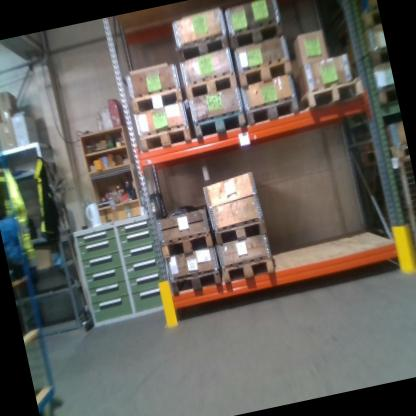pallet: (296, 77, 369, 117), (171, 28, 231, 64), (236, 52, 294, 87), (242, 96, 302, 128), (158, 227, 214, 260), (191, 106, 248, 138), (228, 19, 287, 49), (211, 215, 269, 245), (221, 252, 275, 283), (136, 123, 192, 152), (126, 83, 182, 112), (167, 267, 222, 295), (182, 69, 237, 97), (375, 85, 398, 107), (369, 46, 389, 67), (361, 10, 382, 29)
stillage: (349, 137, 416, 278)
